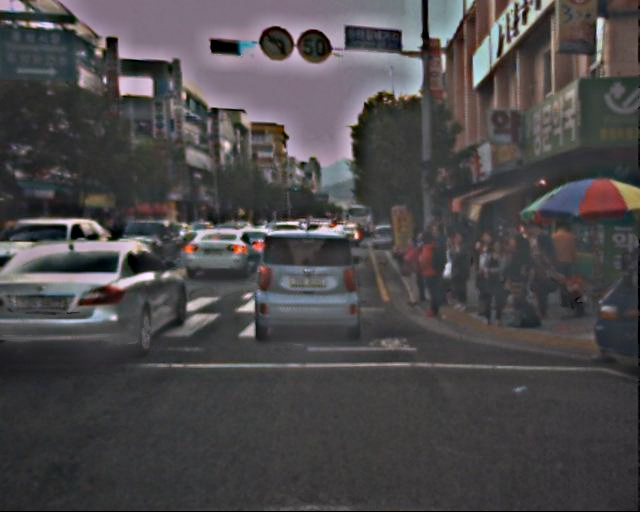person: (414, 232, 449, 317), (476, 243, 510, 326), (546, 218, 580, 300), (524, 224, 555, 299), (523, 237, 554, 312), (443, 232, 473, 306), (472, 227, 502, 299), (502, 232, 531, 303), (397, 239, 423, 303)
